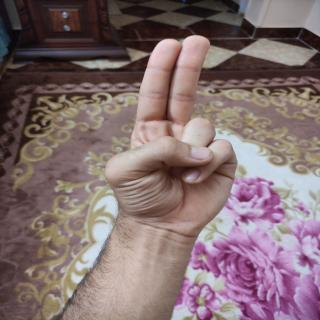TA: (103, 32, 253, 248)
